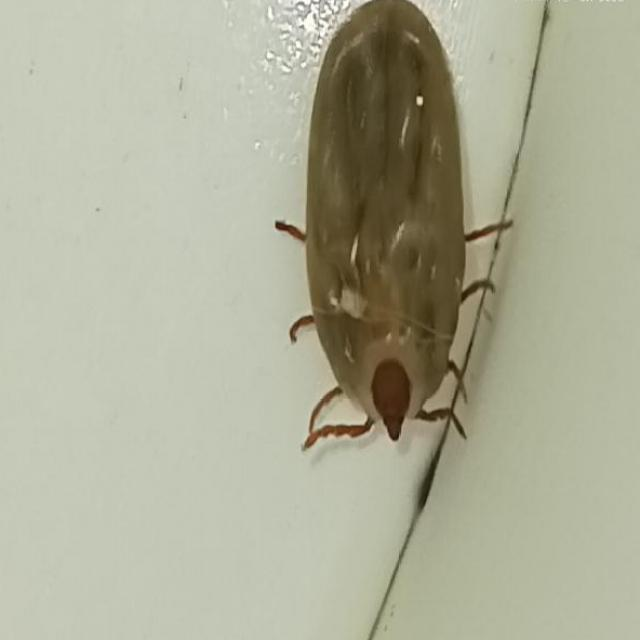Rhipicephalus Sanguineus-F-Fed: (276, 0, 514, 450)
